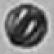correct: (2, 2, 50, 51)
